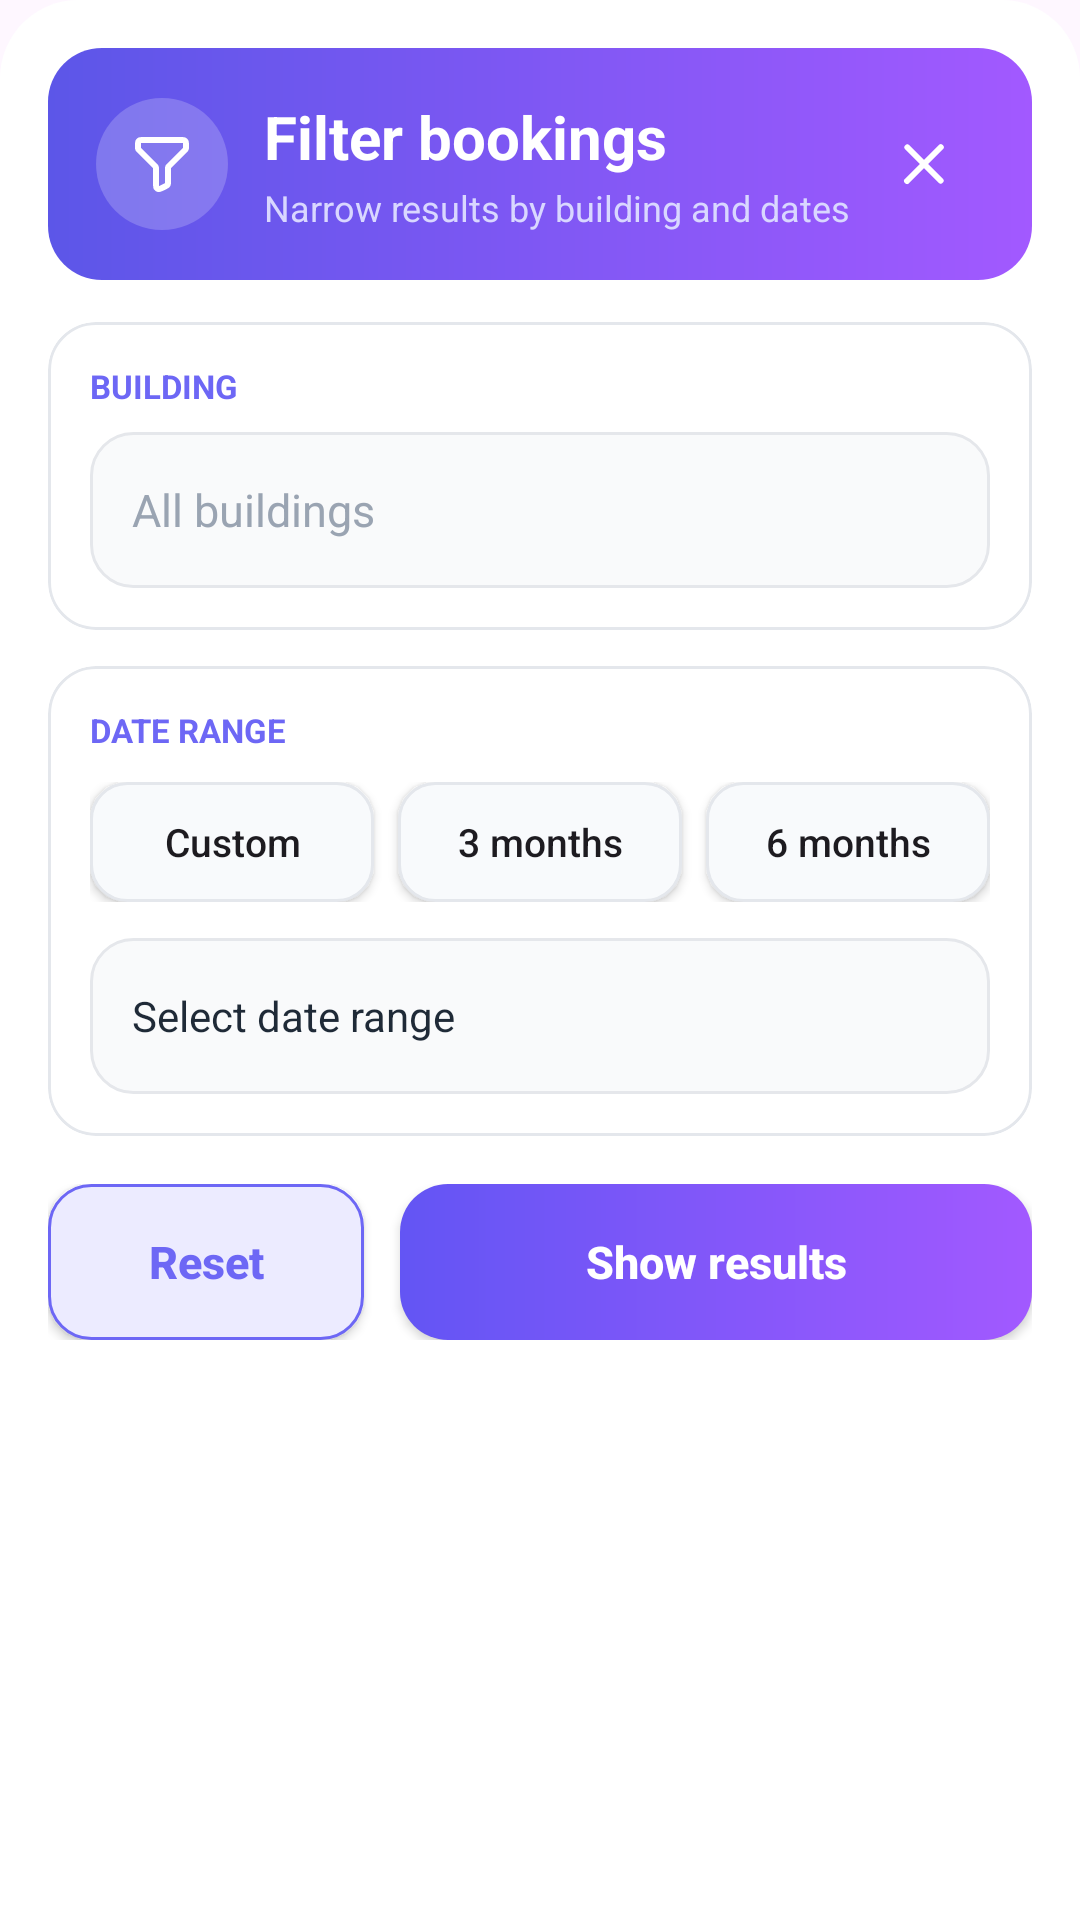

Where icons sit on this 1080 x 1920 app screen, as BBox(x1, y1, x2, y2):
Close filters: BBox(904, 144, 944, 184)
